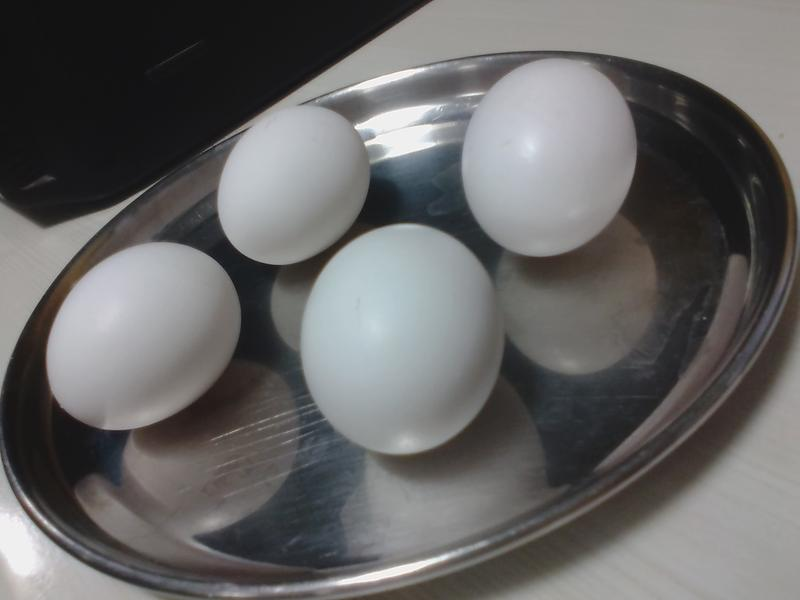egg: (217, 104, 370, 261)
